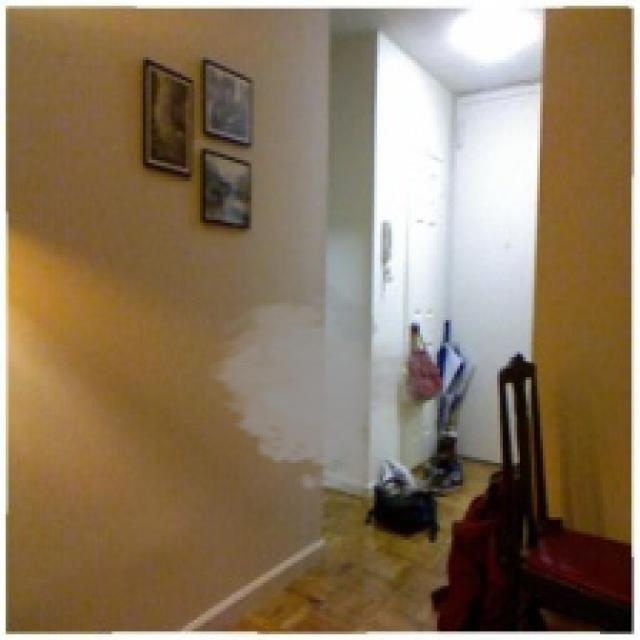smoke: (206, 280, 468, 503)
